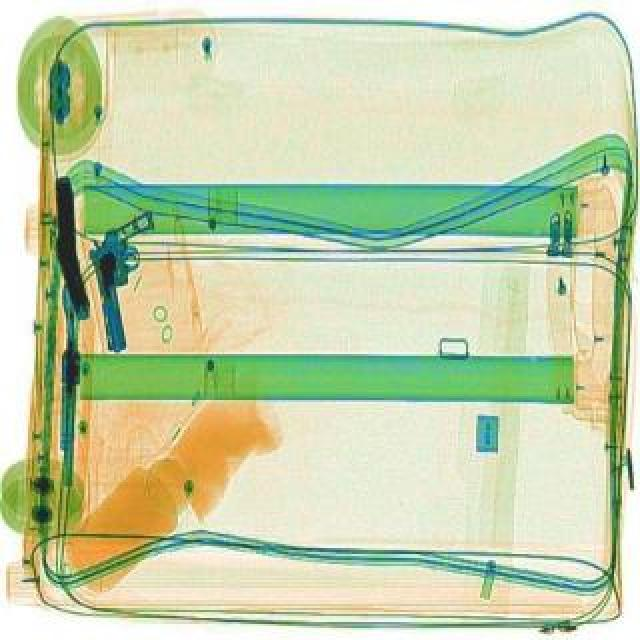gun: (76, 206, 180, 354), (38, 168, 94, 324), (56, 286, 80, 490)
